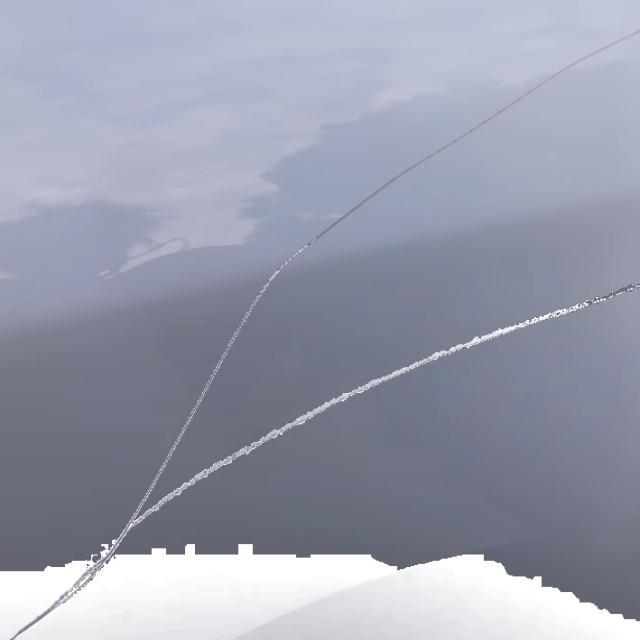crack: (166, 272, 615, 529), (230, 21, 471, 406)
